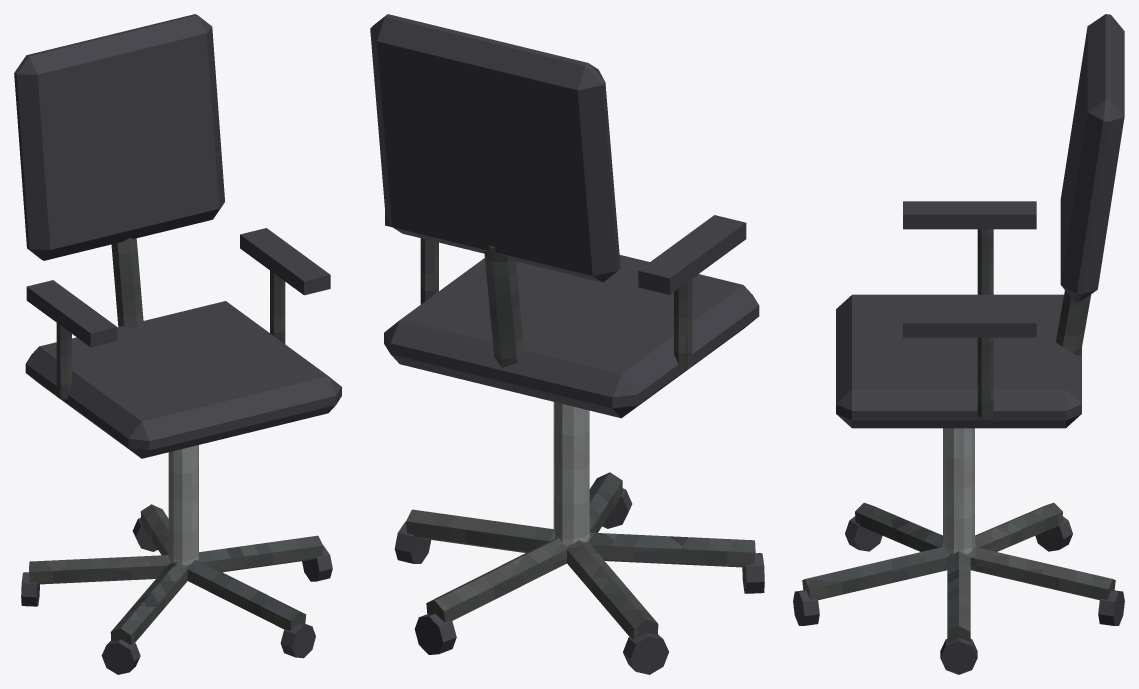
File: office_chair.glb
3 renders of one model, left to right at view 1: azimuth 30°, elevation 25°; view 2: azimuth 150°, elevation 25°; view 3: azimuth 270°, elevation 25°, orthographic. The views are drawn at different scales.
Visible parts, largest first — view 1: body; view 2: body; view 3: body.
Boxes of the visible parts, x1=… form: body: x1=14, y1=14, x2=341, y2=674; body: x1=370, y1=14, x2=764, y2=674; body: x1=793, y1=14, x2=1124, y2=674.
Bounding box in the file's own units: 0.5904 × 1.13 × 0.6208.
3 materials, 2 textured.
